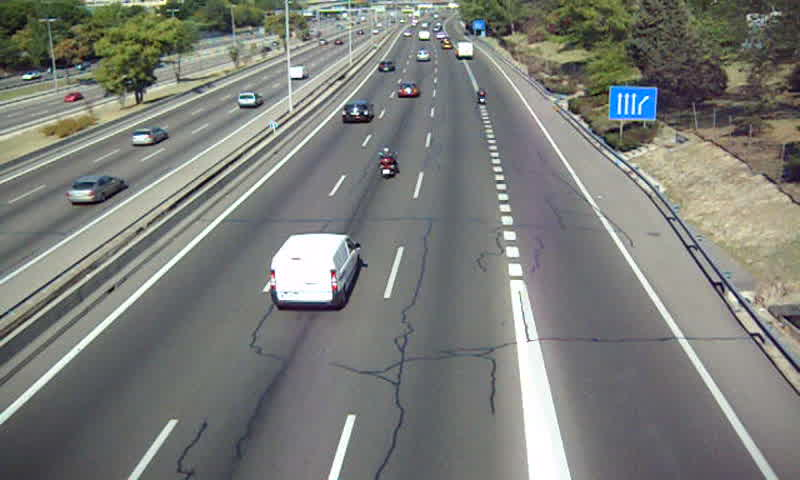car: (339, 101, 374, 126), (396, 83, 419, 98), (376, 60, 395, 73), (414, 49, 430, 62)
motorcycle: (377, 146, 396, 181), (476, 86, 486, 107)
van: (269, 234, 360, 311), (457, 41, 475, 60)
